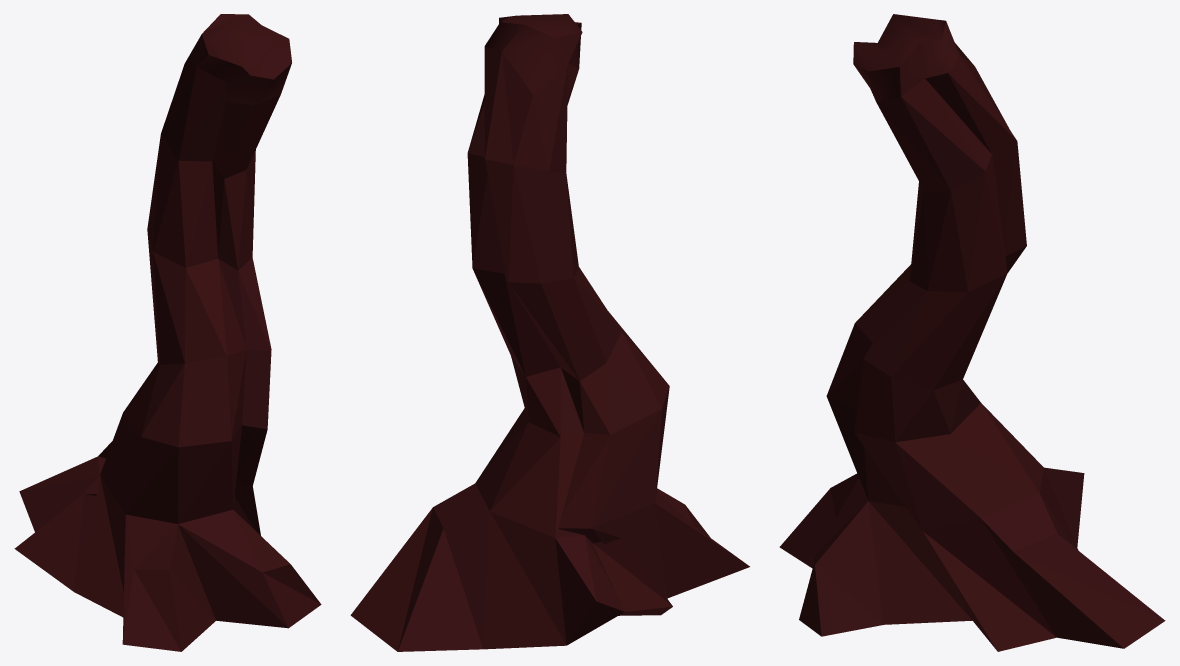
Rendered from arbolcafe.fbx.
3 renders of one model, left to right at view 1: azimuth 30°, elevation 25°; view 2: azimuth 150°, elevation 25°; view 3: azimuth 270°, elevation 25°, orthographic. The views are drawn at different scales.
Visible parts, largest first — view 1: Box001.001; view 2: Box001.001; view 3: Box001.001.
Part boxes in pixels (<box>): Box001.001: <box>14,14,321,651</box>; Box001.001: <box>350,14,749,651</box>; Box001.001: <box>779,14,1165,651</box>.
Bounding box in the file's own units: 3.24 × 6.55 × 3.82.
